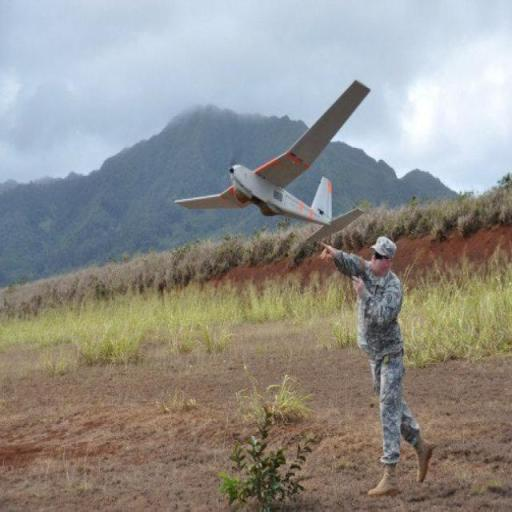uav: (167, 77, 364, 245)
